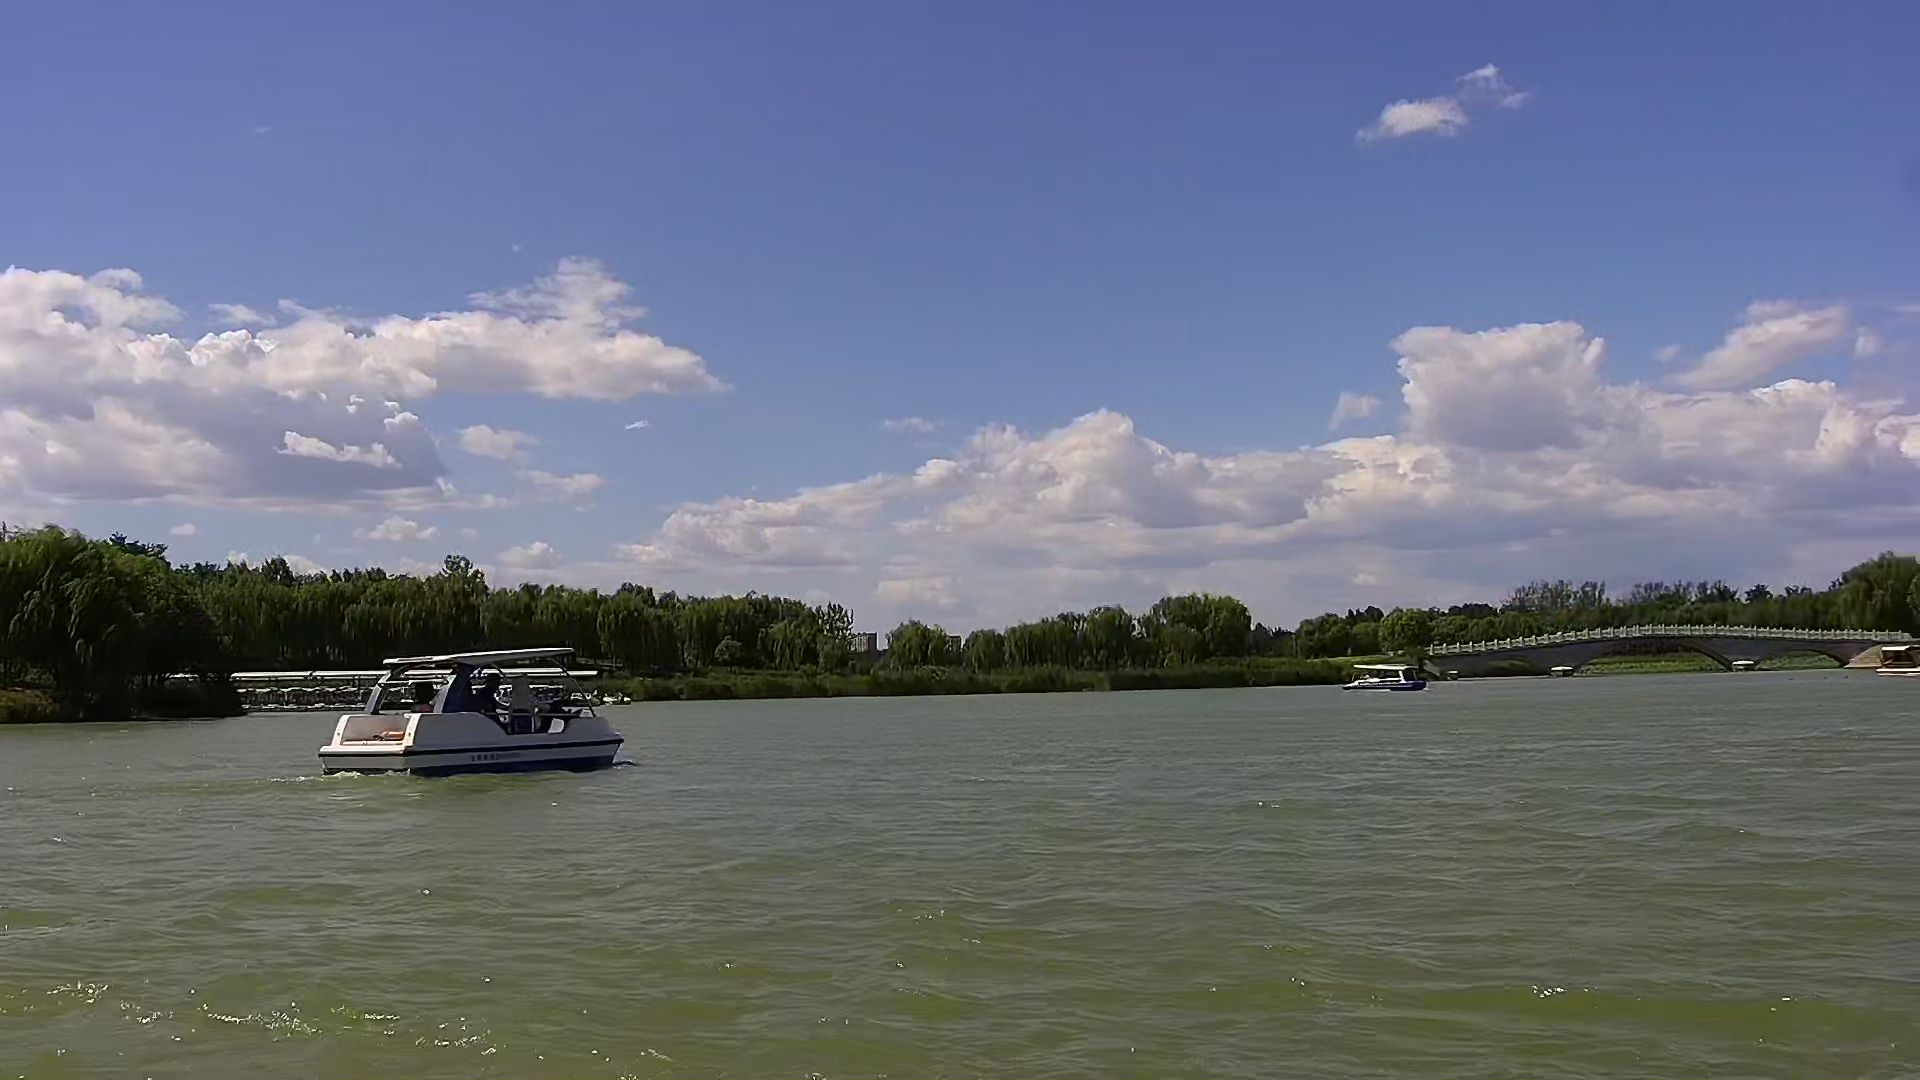boat: (303, 637, 629, 778), (1335, 655, 1443, 704)
bridge: (1453, 611, 1886, 676)
